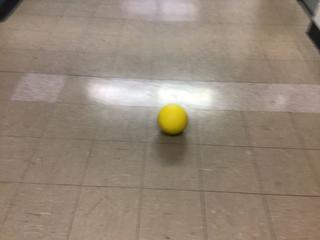power_cell: (156, 102, 188, 137)
